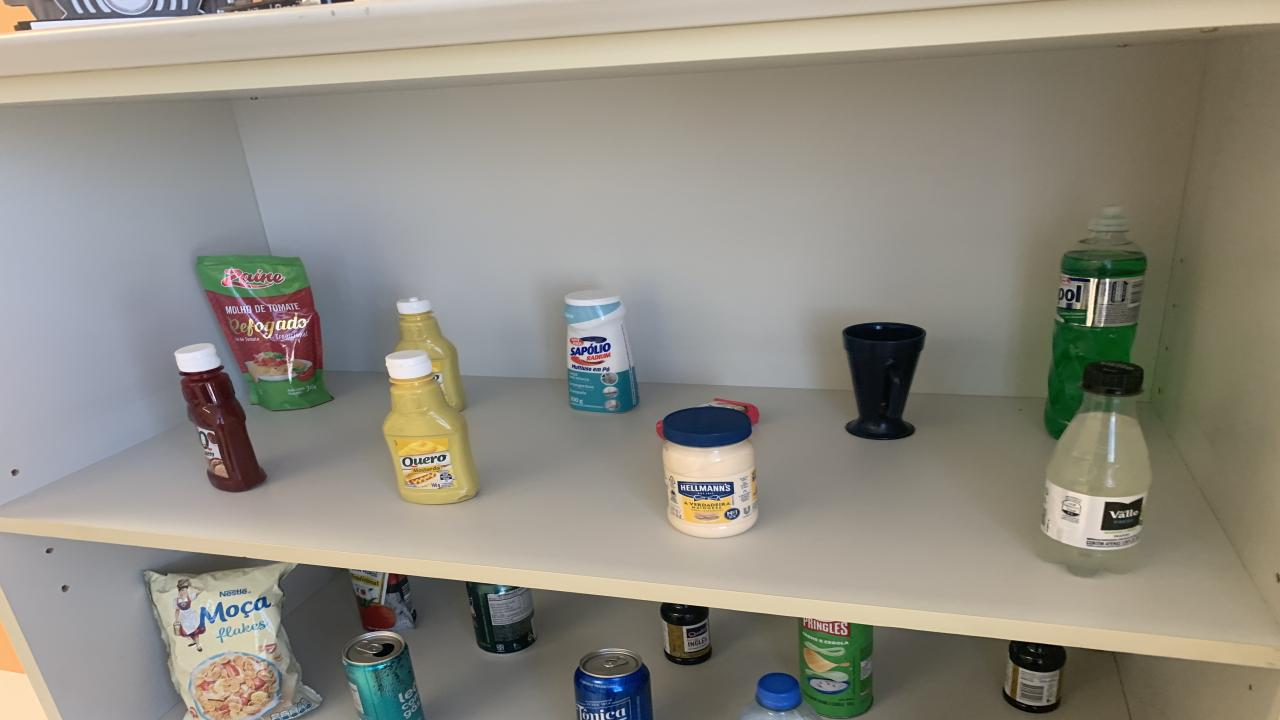Cleaner-Cleanup_Items: (565, 289, 638, 412)
Detergent-Cleanup_Items: (1045, 206, 1148, 437)
English_Sauce-Pantry_Items: (1002, 641, 1068, 712), (660, 604, 712, 666)
Flakes-Snacks: (145, 562, 322, 720)
Guarana_Can-Drinks: (468, 583, 535, 654)
Ketchup-Pantry_Items: (175, 343, 265, 491)
Mayonnaise-Pantry_Items: (658, 405, 758, 538)
Mustard-Pantry_Items: (382, 349, 480, 504), (395, 296, 465, 411)
Pringles-Snacks: (798, 619, 872, 718)
Soda-Drinks: (1038, 362, 1152, 576)
Tea-Drinks: (342, 630, 425, 720)
Tomato_Sauce-Pantry_Items: (198, 255, 332, 411), (350, 570, 415, 632)
Tonic-Drinks: (575, 649, 652, 720)
Water_Bottle-Drinks: (738, 673, 822, 720)
